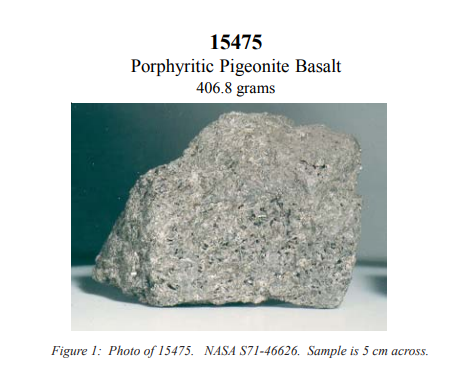Basalt: (70, 103, 385, 329)
